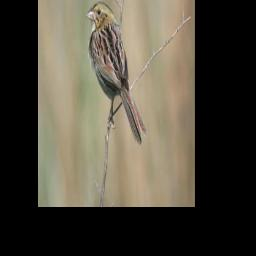Sparrow: (85, 0, 149, 148)
